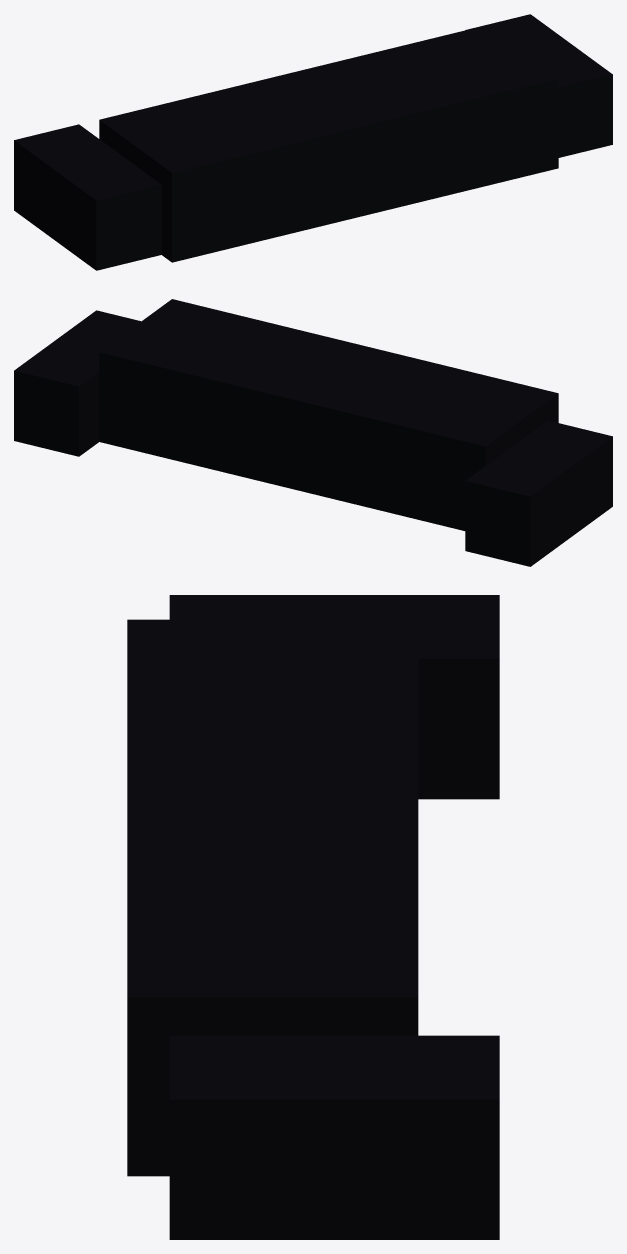
Rendered from COL_ShopKiosk_Body.glb.
3 renders of one model, top to bottom at view 1: azimuth 30°, elevation 25°; view 2: azimuth 150°, elevation 25°; view 3: azimuth 270°, elevation 25°, orthographic. The views are drawn at different scales.
Parts seen in each view (by area): view 1: COL_ShopKiosk_CounterHull, COL_ShopKiosk_WingHull_L, COL_ShopKiosk_WingHull_R; view 2: COL_ShopKiosk_CounterHull, COL_ShopKiosk_WingHull_L, COL_ShopKiosk_WingHull_R; view 3: COL_ShopKiosk_CounterHull, COL_ShopKiosk_WingHull_R, COL_ShopKiosk_WingHull_L.
Part boxes in pixels (x1=…): COL_ShopKiosk_CounterHull: x1=99, y1=25, x2=558, y2=262; COL_ShopKiosk_WingHull_L: x1=14, y1=124, x2=161, y2=270; COL_ShopKiosk_WingHull_R: x1=465, y1=14, x2=612, y2=157; COL_ShopKiosk_CounterHull: x1=99, y1=299, x2=558, y2=530; COL_ShopKiosk_WingHull_L: x1=465, y1=420, x2=612, y2=566; COL_ShopKiosk_WingHull_R: x1=14, y1=310, x2=140, y2=456; COL_ShopKiosk_CounterHull: x1=127, y1=619, x2=418, y2=1176; COL_ShopKiosk_WingHull_R: x1=169, y1=1035, x2=499, y2=1239; COL_ShopKiosk_WingHull_L: x1=169, y1=595, x2=499, y2=799.
Bounding box in the file's own units: 20 × 3.32 × 6.24.
1 material, 1 textured.
